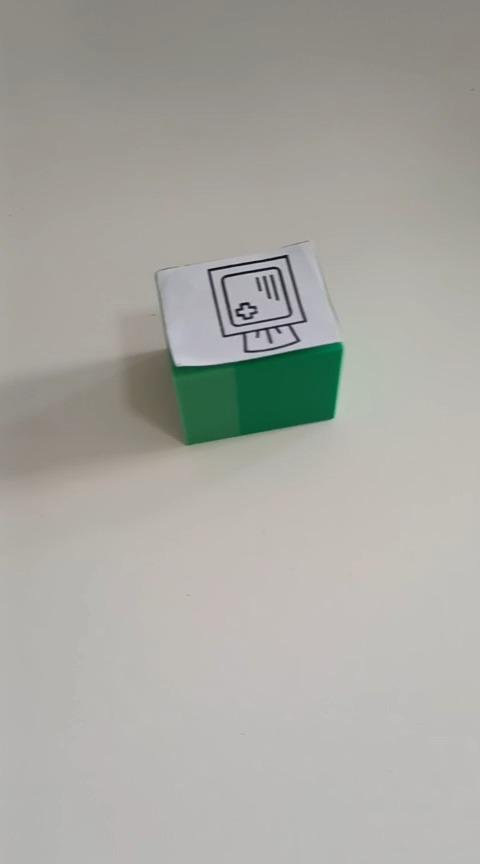Gauze: (153, 238, 344, 445)
